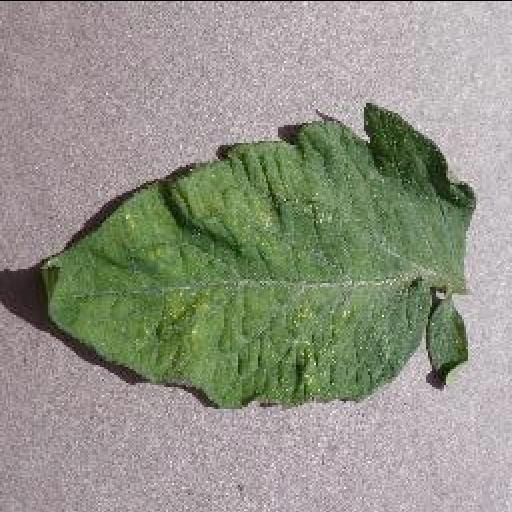disease_tomato: (43, 103, 481, 409)
